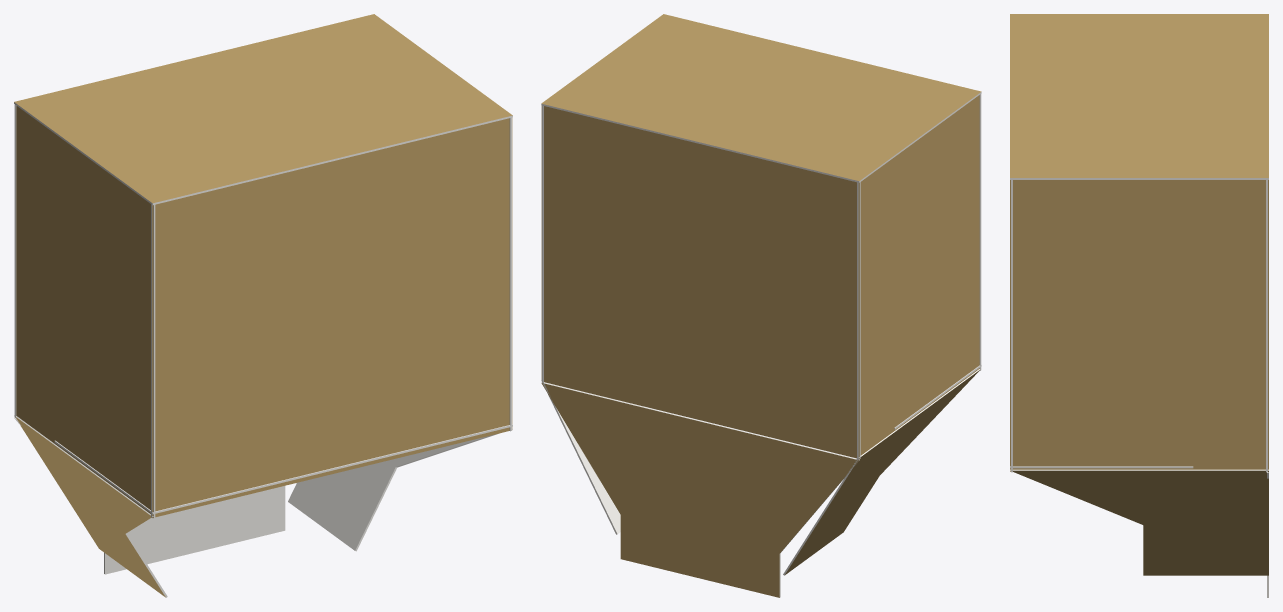
3 renders of one model, left to right at view 1: azimuth 30°, elevation 25°; view 2: azimuth 150°, elevation 25°; view 3: azimuth 270°, elevation 25°, orthographic. The views are drawn at different scales.
Visible parts, largest first — view 1: Packive_Box_fefco0217; view 2: Packive_Box_fefco0217; view 3: Packive_Box_fefco0217.
Part boxes in pixels (left/top/right/bottom): Packive_Box_fefco0217: left=14, top=14, right=512, bottom=597; Packive_Box_fefco0217: left=541, top=14, right=981, bottom=597; Packive_Box_fefco0217: left=1010, top=14, right=1268, bottom=597.
Bounding box in the file's own units: 0.3 × 0.393 × 0.2.
Materials: 26 (13 with a texture image).
